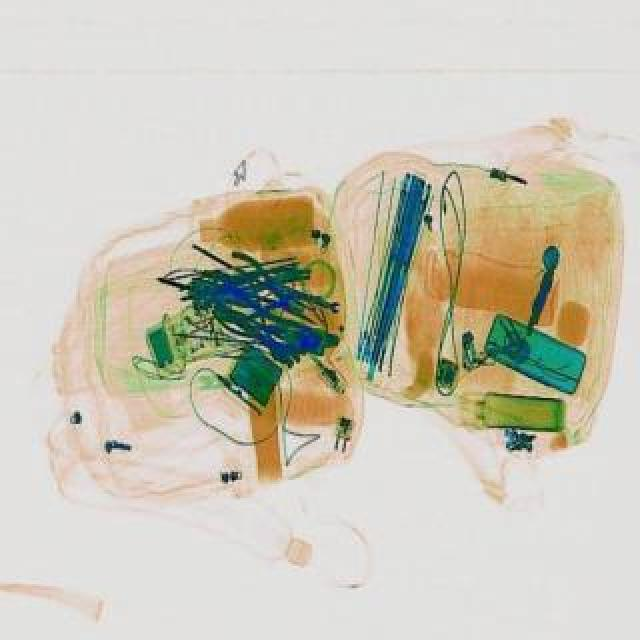wrench: (212, 248, 332, 342), (194, 252, 324, 328)
